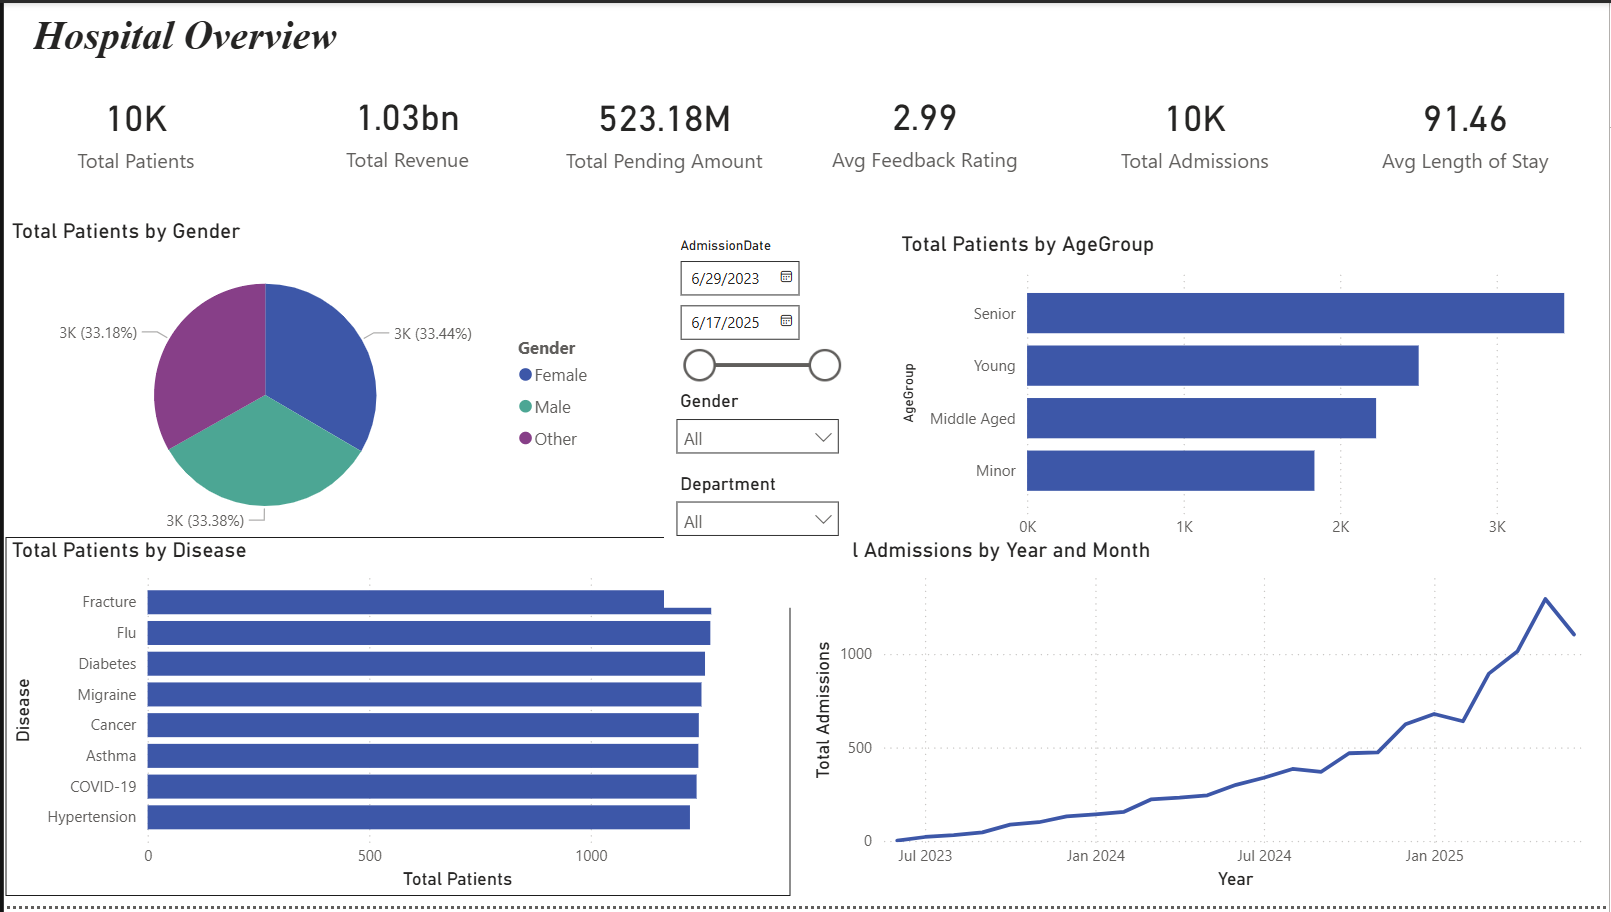

This screenshot's page, from the dashboard's own definition file:
{"tool":"powerbi","page":{"name":"Overview","canvas":[1280,720],"ordinal":0},"visuals":[{"type":"card","fields":{"Values":["_Measure.Total Patients"]},"box":[0,0,209.7,200.5],"z":0},{"type":"card","fields":{"Values":["_Measure.Avg Feedback Rating"]},"box":[626.9,0,214.4,199.3],"z":1000},{"type":"card","fields":{"Values":["_Measure.Total Pending Amount"]},"box":[424.1,0,202.8,200.5],"z":2000},{"type":"card","fields":{"Values":["_Measure.Avg Length of Stay"]},"box":[1048.7,0,231.7,200.5],"z":3000},{"type":"card","fields":{"Values":["_Measure.Total Admissions"]},"box":[841.2,0,216.7,200.5],"z":4000},{"type":"card","fields":{"Values":["_Measure.Total Revenue"]},"box":[199.3,0,243.3,199.3],"z":5000},{"type":"pieChart","fields":{"Category":["Patient_Table.Gender"],"Y":["_Measure.Total Patients"]},"box":[1.2,171.5,479.7,263],"z":6000},{"type":"barChart","fields":{"Category":["Patient_Table.AgeGroup"],"Y":["_Measure.Total Patients"]},"box":[710.3,181.9,553.9,263],"z":7000},{"type":"lineChart","fields":{"Y":["_Measure.Total Admissions"],"Category":["Admission_Table.AdmissionDate.Variation.Date Hierarchy.Year","Admission_Table.AdmissionDate.Variation.Date Hierarchy.Month"]},"box":[639.6,426.4,640.8,285],"z":8000},{"type":"barChart","fields":{"Category":["Admission_Table.Disease"],"Y":["_Measure.Total Patients"]},"box":[1.2,426.4,625.7,285],"z":9000},{"type":"textbox","box":[18.5,2.3,263,55.6],"z":11000},{"type":"slicer","fields":{"Values":["Admission_Table.AdmissionDate"]},"box":[526.1,181.9,149.5,132.1],"z":11001},{"type":"slicer","fields":{"Values":["Patient_Table.Gender"]},"box":[526.1,303.6,149.5,84.6],"z":11002},{"type":"slicer","fields":{"Values":["Doctor_Table.Department"]},"box":[526.1,369.6,149.5,112.4],"z":11003}]}

Visuals, with their boxes in screenshot pixels (x1, y1, x2, y2), scaled from the page's 1280x720 canvas onto the 1611x912 screenshot:
card - _Measure.Total Patients: [0,0,264,254]
card - _Measure.Avg Feedback Rating: [789,0,1059,252]
card - _Measure.Total Pending Amount: [534,0,789,254]
card - _Measure.Avg Length of Stay: [1320,0,1610,254]
card - _Measure.Total Admissions: [1059,0,1331,254]
card - _Measure.Total Revenue: [251,0,557,252]
pieChart - Patient_Table.Gender x _Measure.Total Patients: [2,217,605,550]
barChart - Patient_Table.AgeGroup x _Measure.Total Patients: [894,230,1591,564]
lineChart - _Measure.Total Admissions x Admission_Table.AdmissionDate.Variation.Date Hierarchy.Year: [805,540,1610,901]
barChart - Admission_Table.Disease x _Measure.Total Patients: [2,540,789,901]
textbox: [23,3,354,73]
slicer - Admission_Table.AdmissionDate: [662,230,850,398]
slicer - Patient_Table.Gender: [662,385,850,492]
slicer - Doctor_Table.Department: [662,468,850,611]
